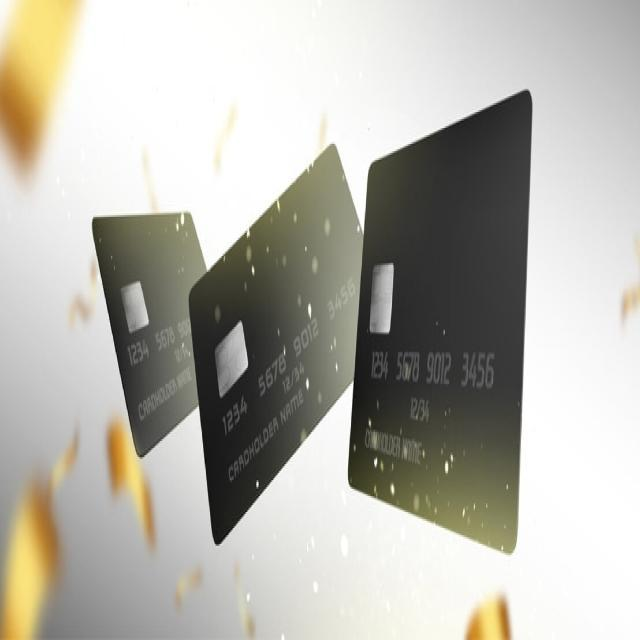payment_card: (346, 87, 533, 554), (186, 141, 364, 545), (89, 209, 208, 458)
